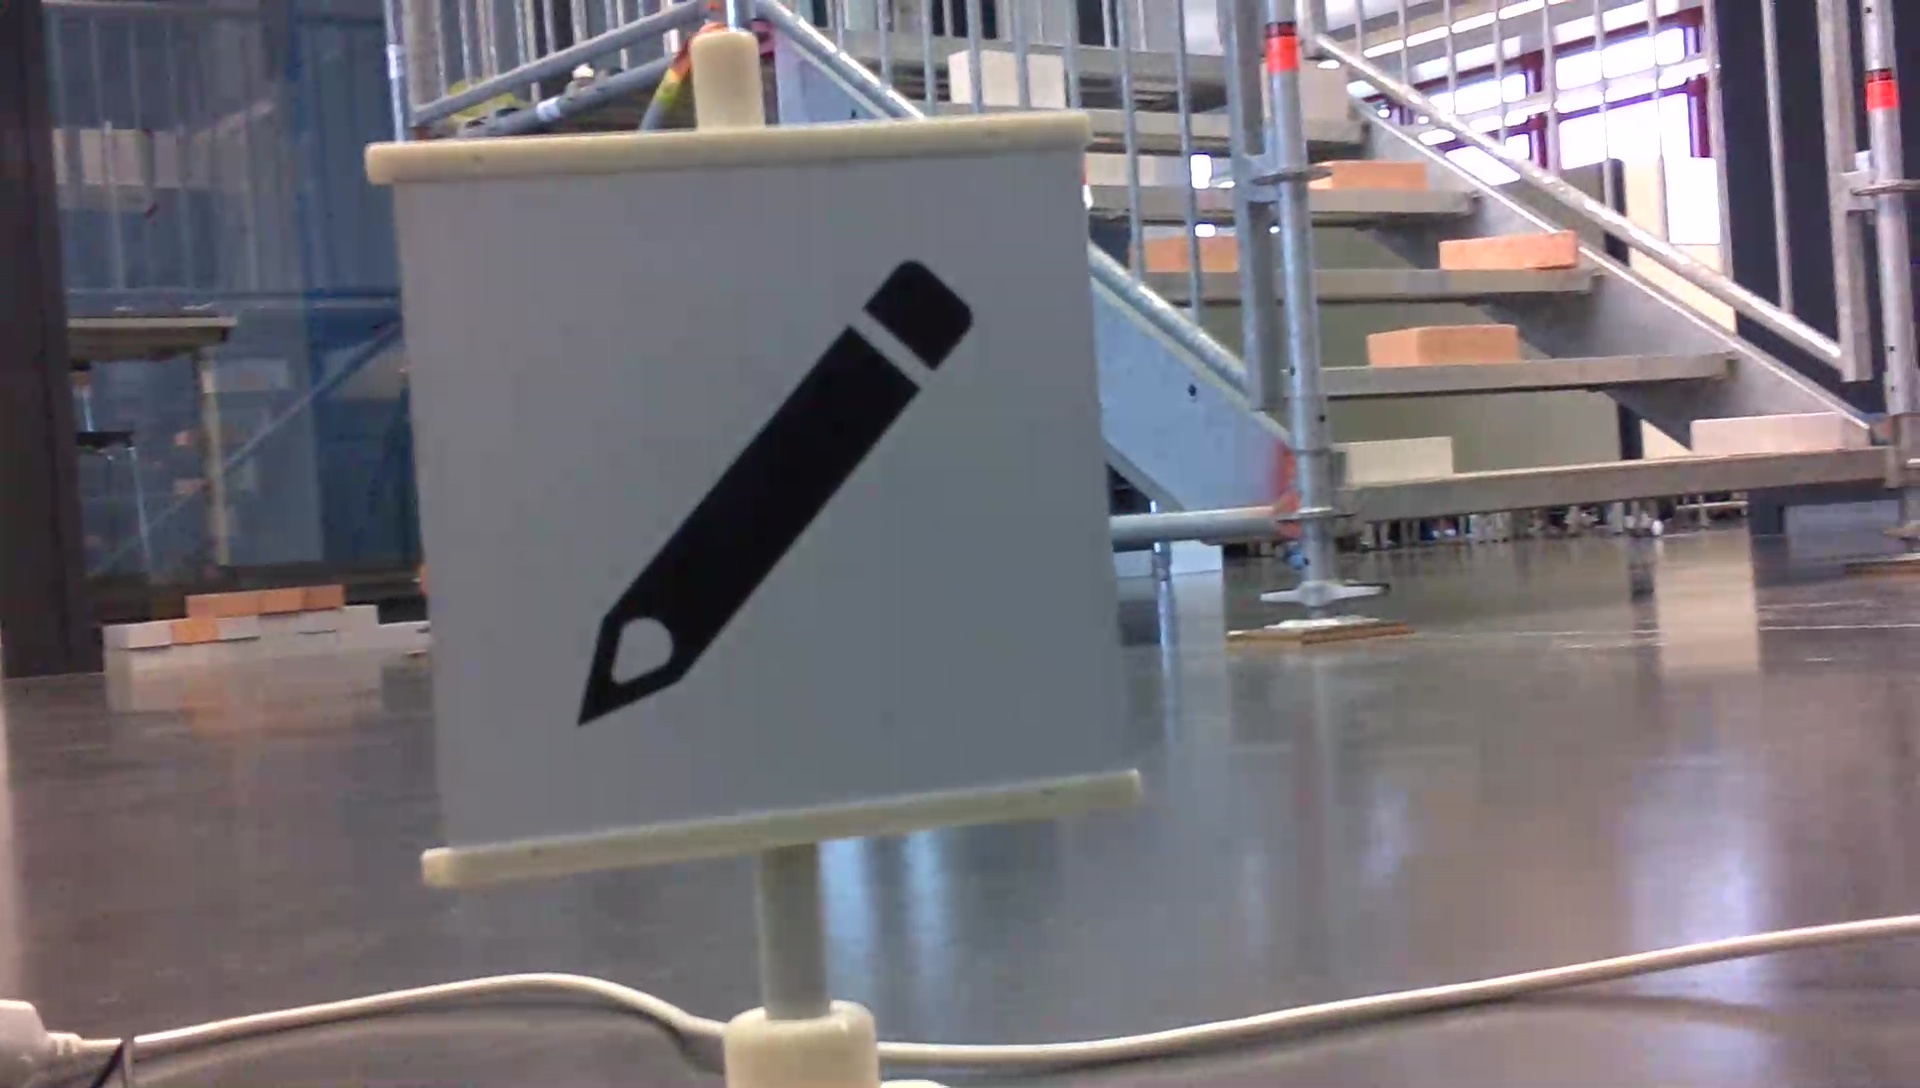brick: (1696, 411, 1842, 452), (1371, 327, 1518, 367), (1437, 233, 1576, 268), (1346, 437, 1451, 476), (1313, 161, 1424, 190), (1294, 65, 1342, 119)
edge: (1353, 450, 1879, 520), (1325, 348, 1741, 390)
pencil: (568, 247, 986, 732)
stairs: (1226, 3, 1920, 641)
